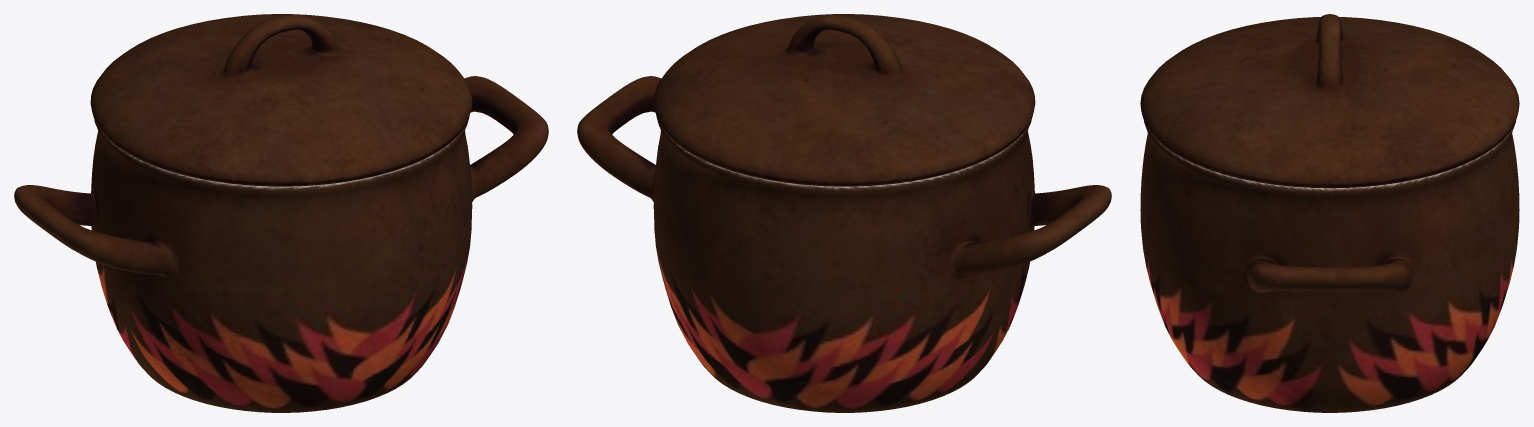
Rendered from pot_enamel_01.gltf.
The picture shows the model from 3 angles, left to right: view 1: azimuth 30°, elevation 25°; view 2: azimuth 150°, elevation 25°; view 3: azimuth 270°, elevation 25°; orthographic projection.
Visible parts, largest first — view 1: pot_enamel_01_base, pot_enamel_01_lid; view 2: pot_enamel_01_base, pot_enamel_01_lid; view 3: pot_enamel_01_base, pot_enamel_01_lid.
Part boxes in pixels (left/top/right/bottom): pot_enamel_01_base: left=14, top=76, right=548, bottom=412; pot_enamel_01_lid: left=90, top=14, right=472, bottom=186; pot_enamel_01_base: left=577, top=76, right=1111, bottom=412; pot_enamel_01_lid: left=653, top=14, right=1035, bottom=186; pot_enamel_01_base: left=1140, top=121, right=1519, bottom=412; pot_enamel_01_lid: left=1140, top=14, right=1519, bottom=188.
Size of the model in its own units: 0.2629 by 0.1783 by 0.1805.
Materials: 1 (1 with a texture image).
